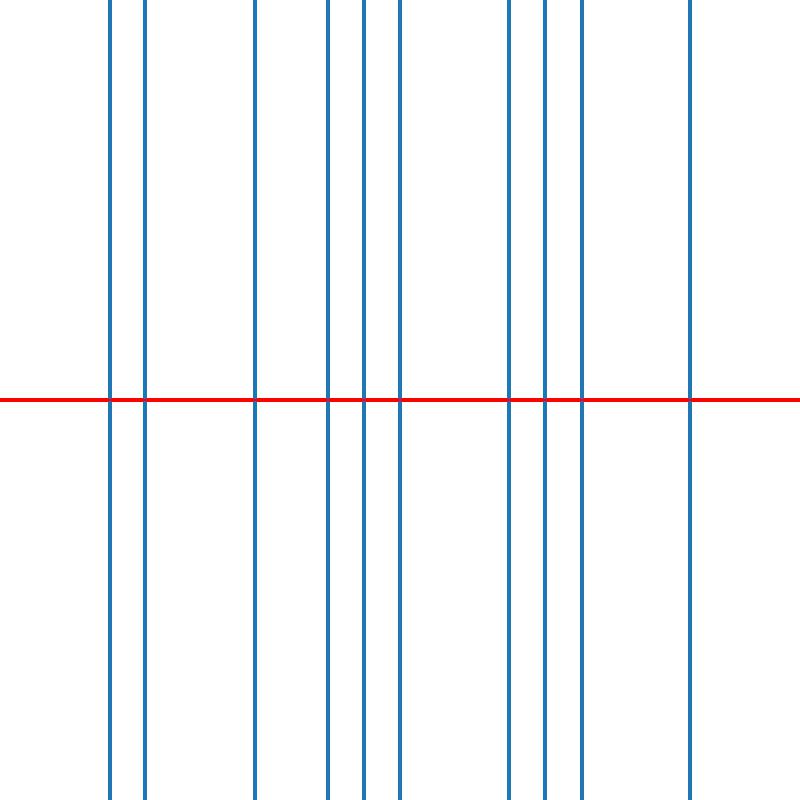root: (250, 396, 258, 404), (141, 396, 149, 404), (541, 396, 549, 404), (105, 396, 112, 404), (396, 396, 403, 404), (687, 396, 694, 404), (323, 396, 330, 404), (505, 396, 512, 404), (360, 396, 367, 404), (578, 396, 585, 404)
